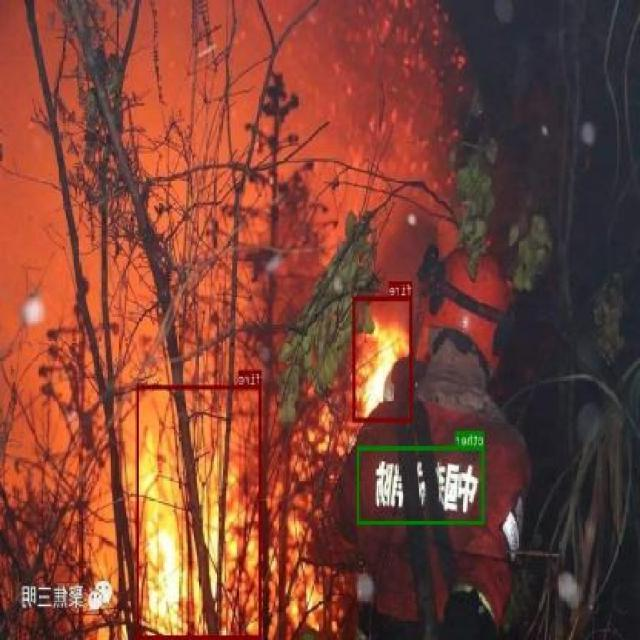Fire: (138, 384, 262, 638), (353, 296, 413, 422)
